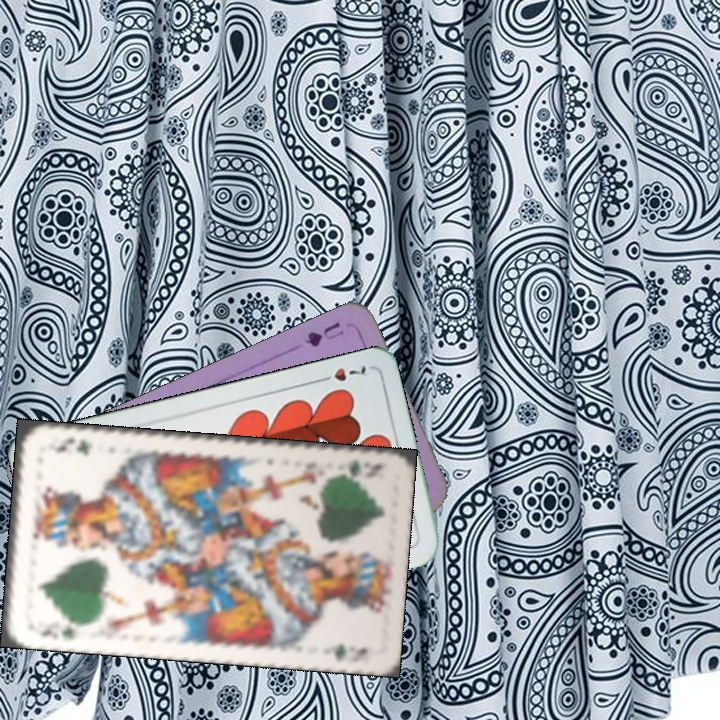GK: (29, 616, 86, 643), (329, 455, 385, 480)
GU: (300, 318, 347, 350)
H7: (313, 360, 370, 385)
